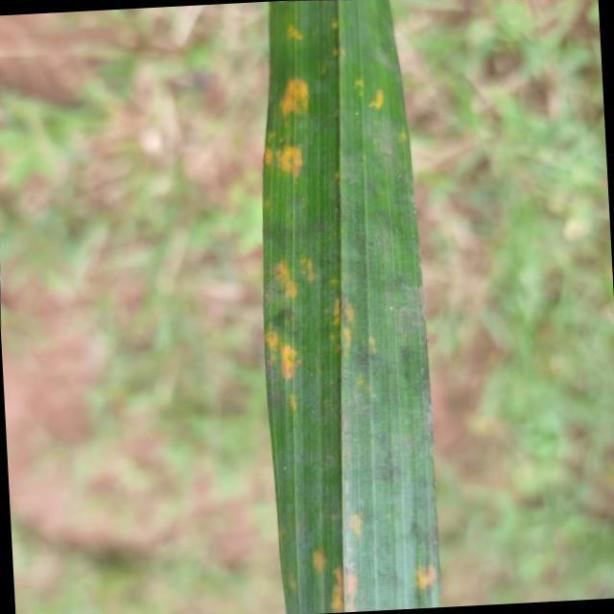Kalium: (262, 0, 442, 614)
